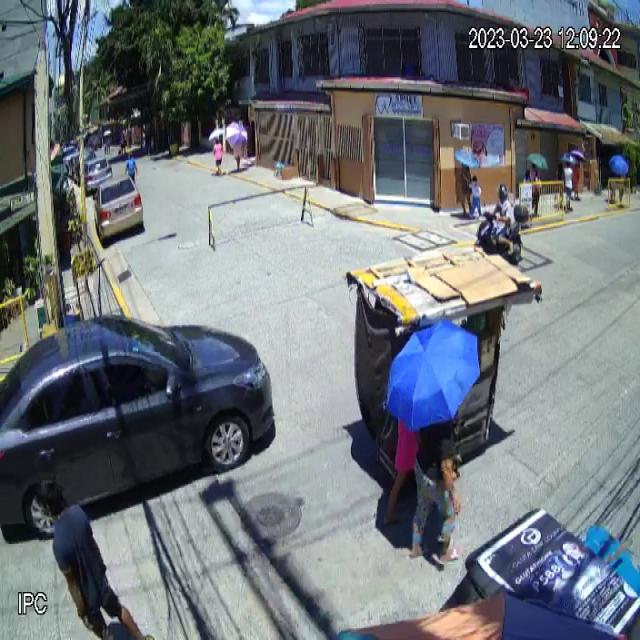Car: (0, 312, 277, 541), (94, 174, 143, 241)
